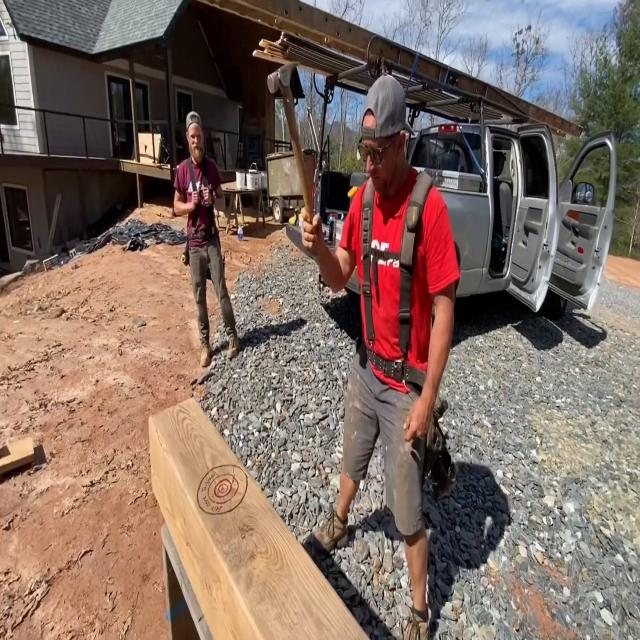hammer: (267, 61, 314, 224)
